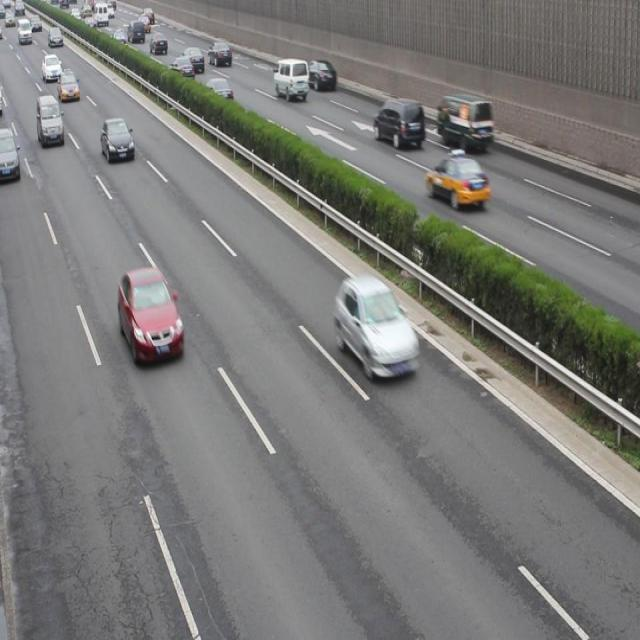car: (334, 275, 419, 380), (119, 268, 184, 364), (424, 150, 489, 208), (101, 118, 134, 162), (1, 128, 22, 183), (306, 61, 337, 92), (204, 78, 233, 105), (182, 45, 204, 74), (58, 71, 78, 100), (208, 40, 231, 65), (170, 55, 193, 79), (42, 54, 62, 80), (127, 18, 144, 44), (150, 33, 168, 56), (112, 29, 128, 47)
truck: (436, 94, 492, 150), (373, 98, 424, 148), (36, 96, 65, 147), (274, 58, 308, 98)
